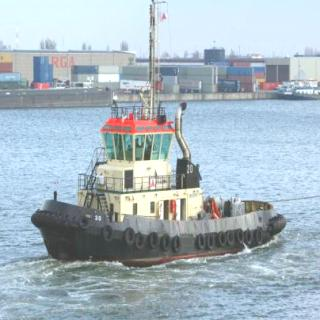Tug Boat: (27, 90, 304, 264)
